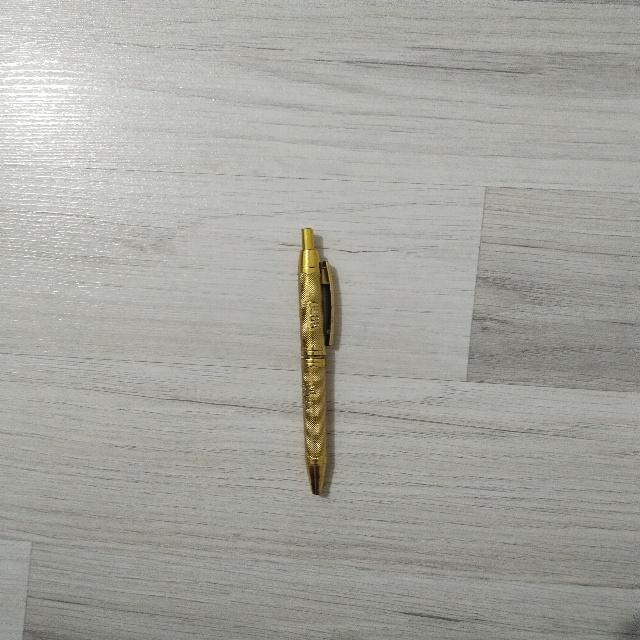signature pen: (298, 228, 333, 494)
